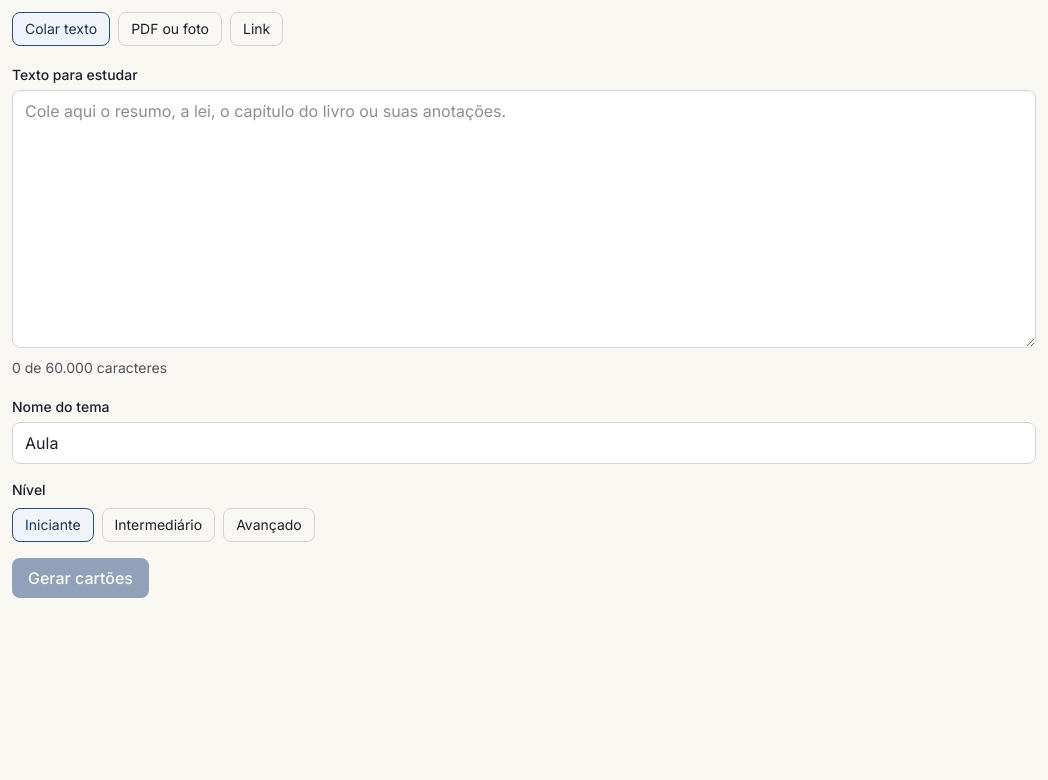
Test: SourceForm com link › vídeo do YouTube explica como usar a transcrição e não envia
This screenshot has width=1048, height=780.
Step 1. Click the button "Link" → (257, 29), box 230,12 -> 283,46
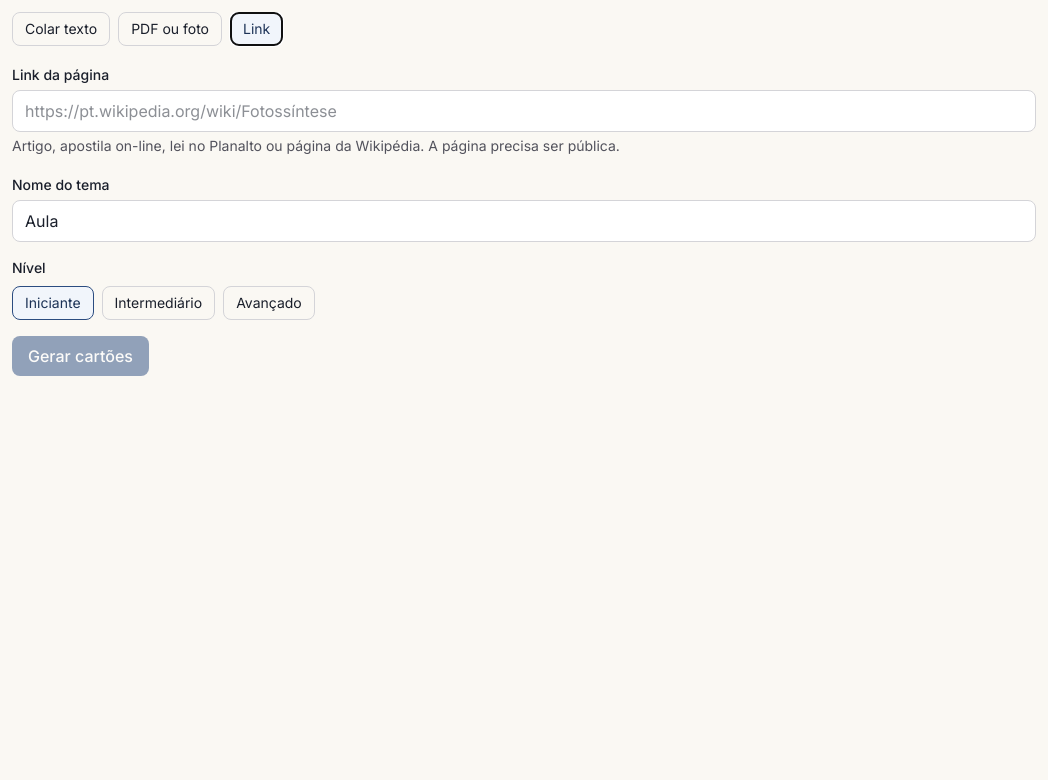
Step 2. Type "https://www.youtube.com/watch?v=abc" into the field labelled "Link da página" → (524, 111), box 12,90 -> 1036,132
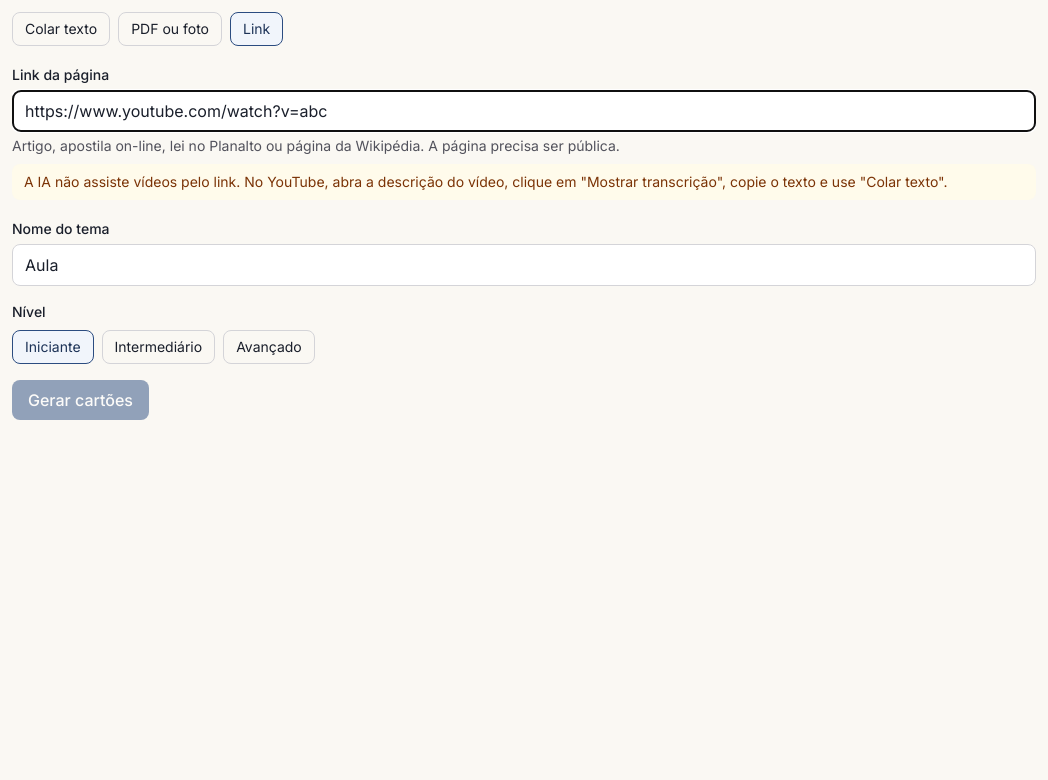
expect the button "Gerar cartões" is disabled: met, box 12,380 -> 149,420
expect the message shows "Mostrar transcrição": met, box 24,173 -> 948,190
